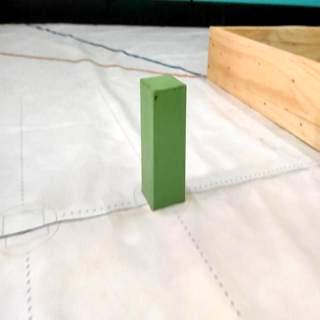greenbox: (138, 70, 188, 212)
